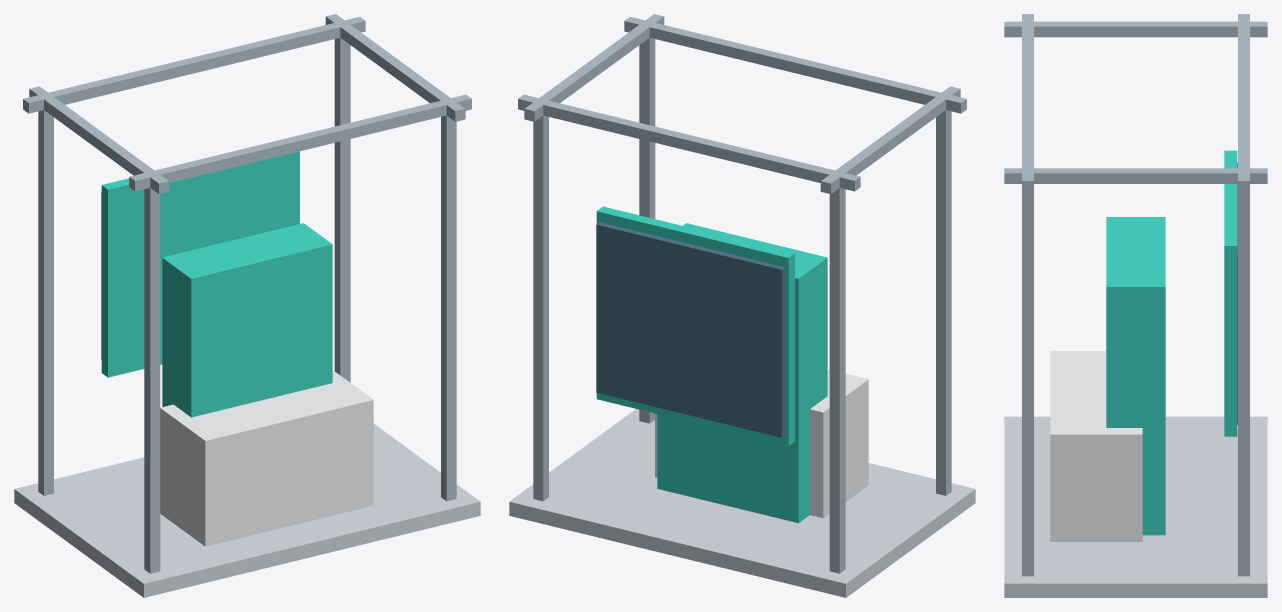
3 renders of one model, left to right at view 1: azimuth 30°, elevation 25°; view 2: azimuth 150°, elevation 25°; view 3: azimuth 270°, elevation 25°, orthographic.
Parts seen in each view (by area): view 1: Exhibition Booth Concept; view 2: Exhibition Booth Concept; view 3: Exhibition Booth Concept.
Part boxes in pixels (x1,y1,x2,y2): Exhibition Booth Concept: (14,14,480,597); Exhibition Booth Concept: (509,14,975,597); Exhibition Booth Concept: (1004,14,1267,597).
Size of the model in its own units: 3 by 3.49 by 2.
